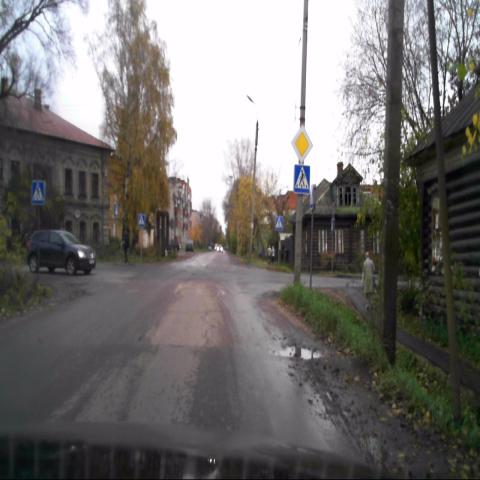2_1: (290, 123, 314, 164)
5_19_1: (294, 165, 310, 194), (32, 180, 46, 204), (274, 215, 284, 233), (138, 212, 146, 227)
